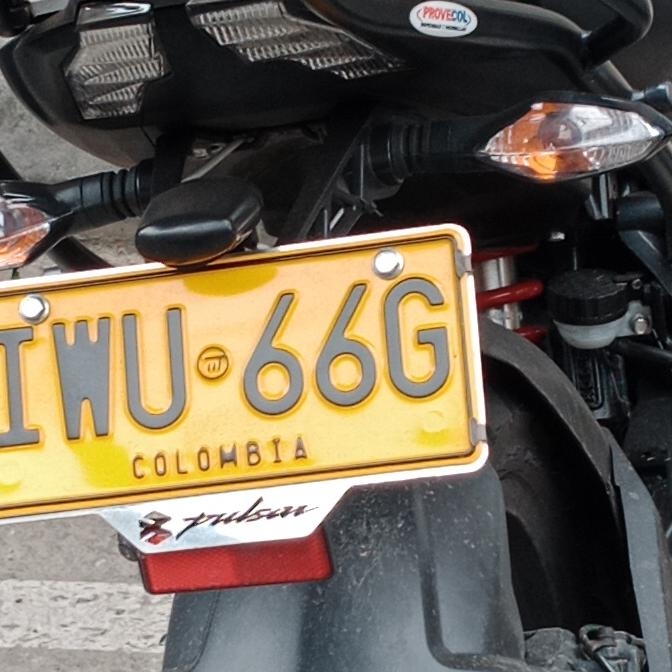plates: (0, 226, 500, 532)
